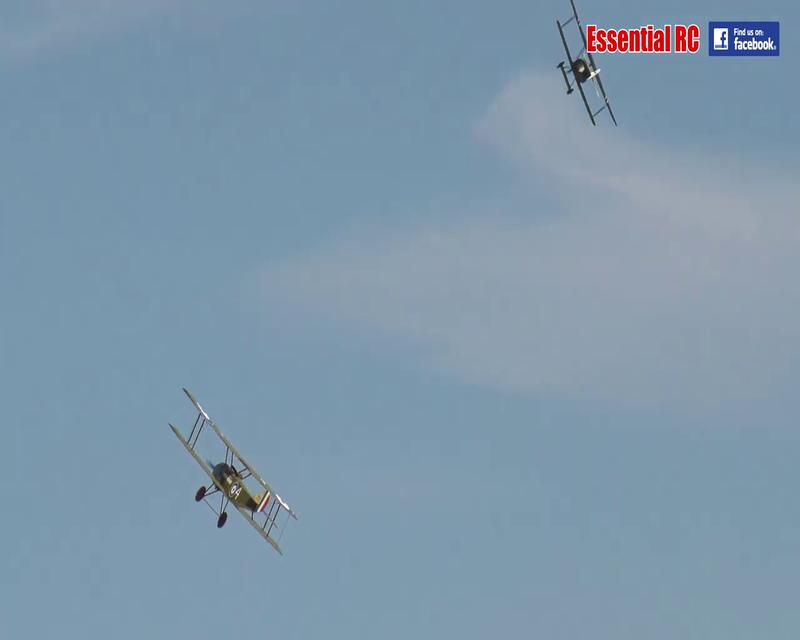UAV: (168, 386, 300, 558)
